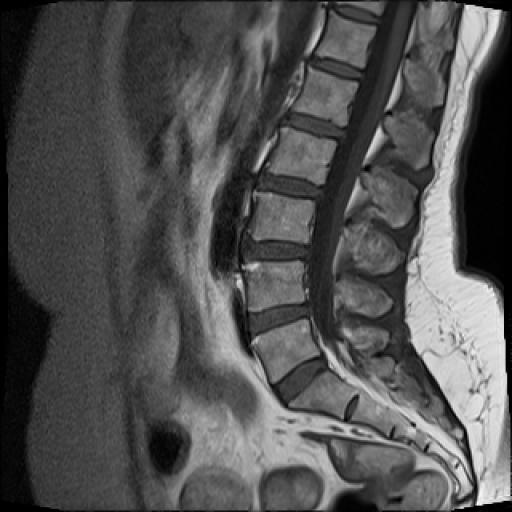L1: (293, 68, 358, 124)
L2: (268, 127, 336, 184)
L3: (250, 190, 316, 244)
L4: (246, 259, 307, 314)
L5: (252, 319, 320, 384)
S1: (286, 371, 357, 420)
